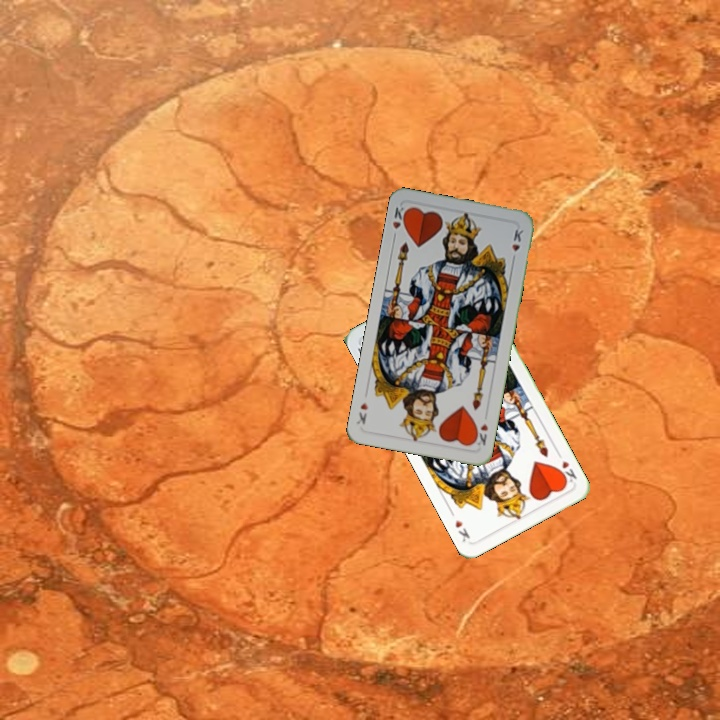HK: (552, 448, 579, 486), (388, 202, 410, 242), (469, 420, 491, 448)
